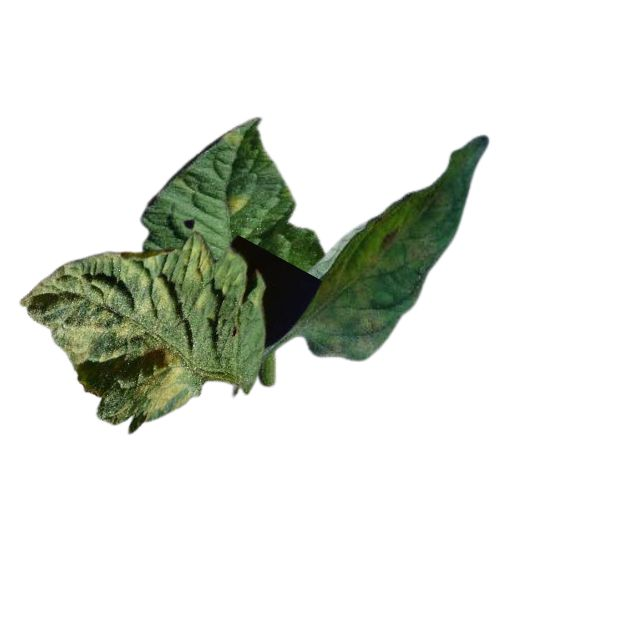Leaf_Mold: (28, 235, 215, 435), (308, 235, 380, 362), (224, 190, 250, 216)
